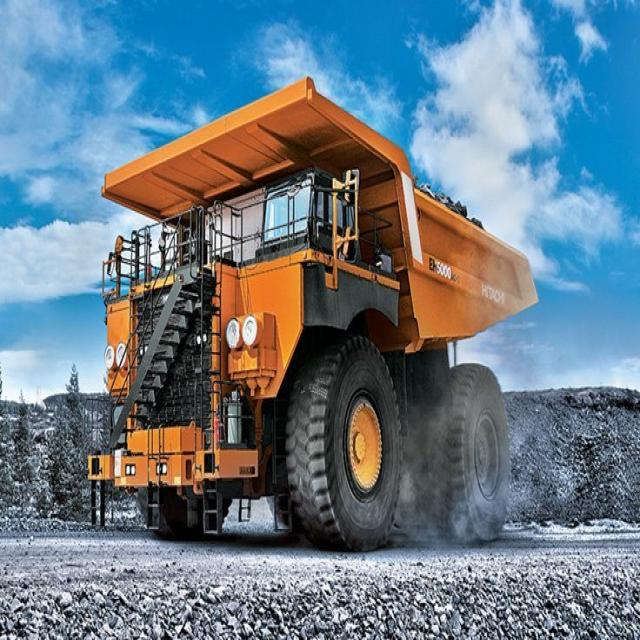dump_truck: (81, 66, 529, 551)
